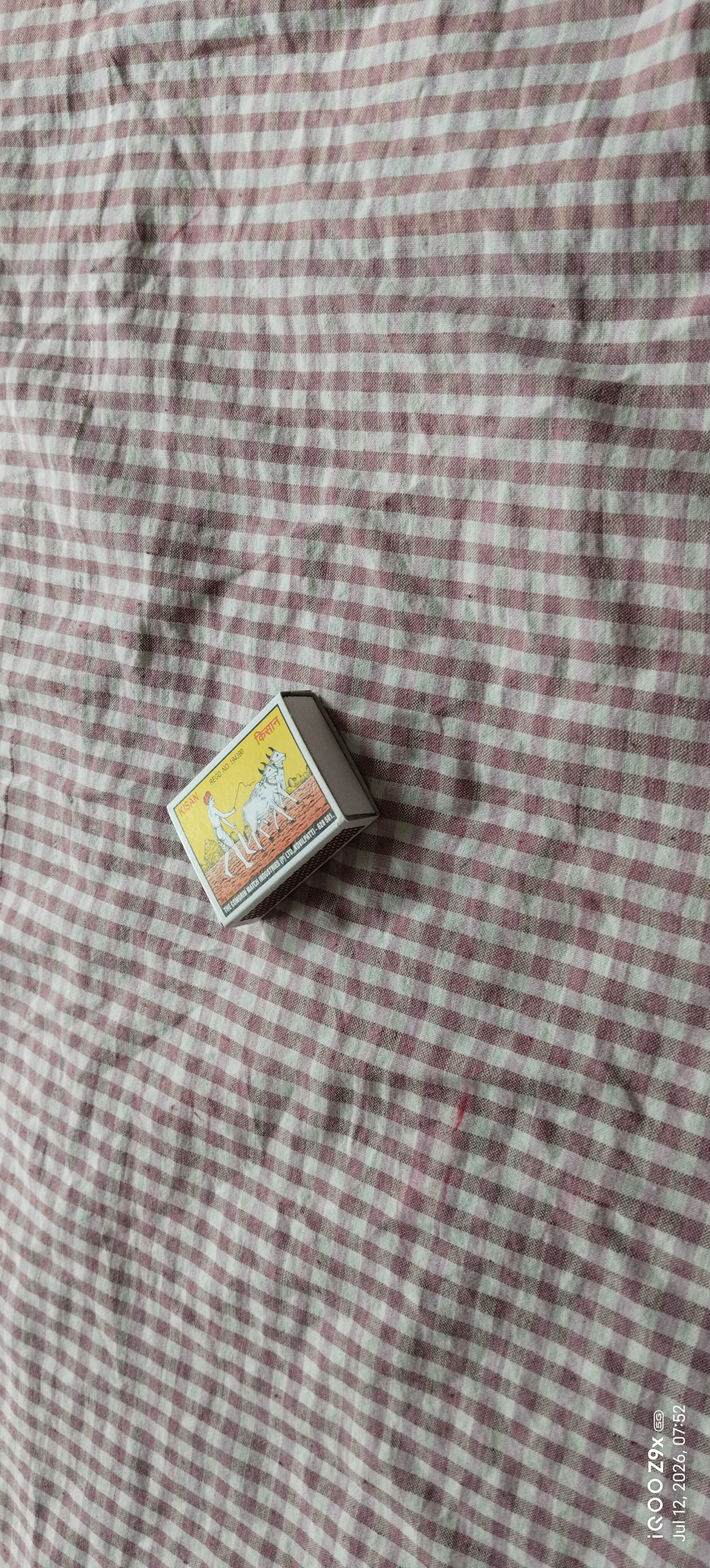matchbox: (154, 678, 397, 945)
